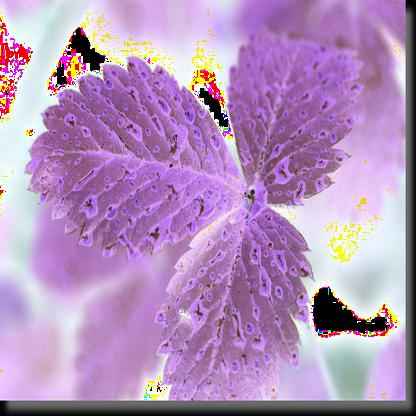Strawberry leaf: (19, 48, 247, 259), (154, 199, 317, 399), (226, 11, 369, 214)
